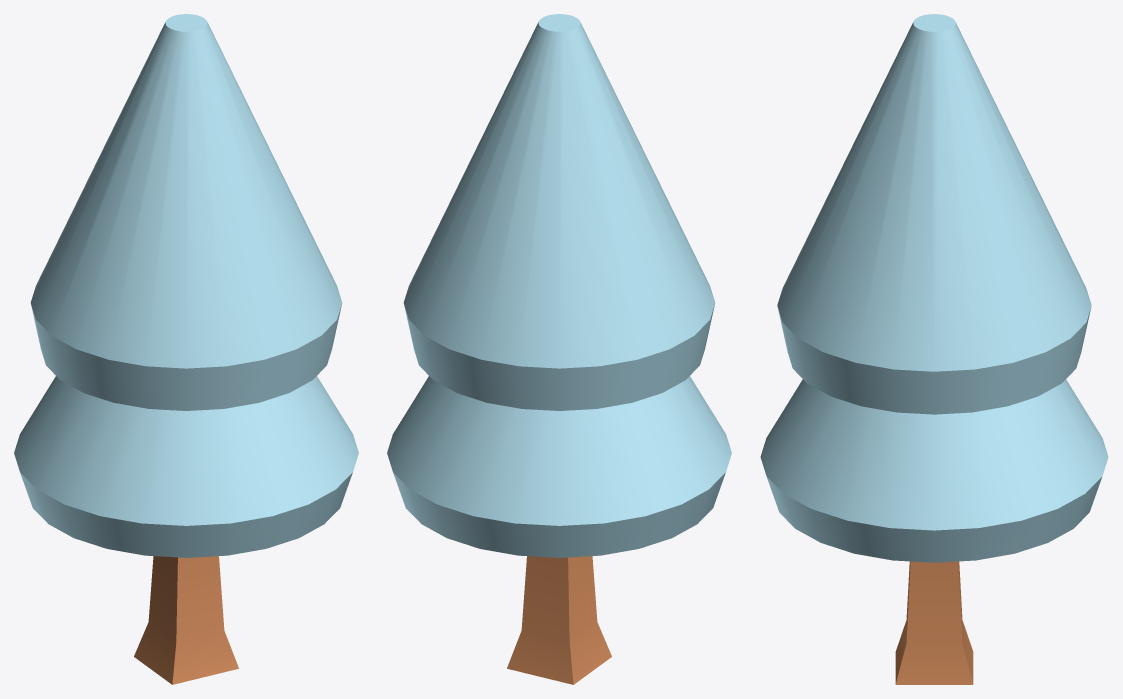
File: treePineSnow.glb
3 views of the same model, side by side, from view 1: azimuth 30°, elevation 25°; view 2: azimuth 150°, elevation 25°; view 3: azimuth 270°, elevation 25° (orthographic).
Parts seen in each view (by area): view 1: treePineSnow; view 2: treePineSnow; view 3: treePineSnow.
Part boxes in pixels (x1=…): treePineSnow: x1=14, y1=14, x2=358, y2=684; treePineSnow: x1=387, y1=14, x2=731, y2=684; treePineSnow: x1=760, y1=14, x2=1108, y2=684.
Bounding box in the file's own units: 0.9485 × 1.94 × 0.9485.
